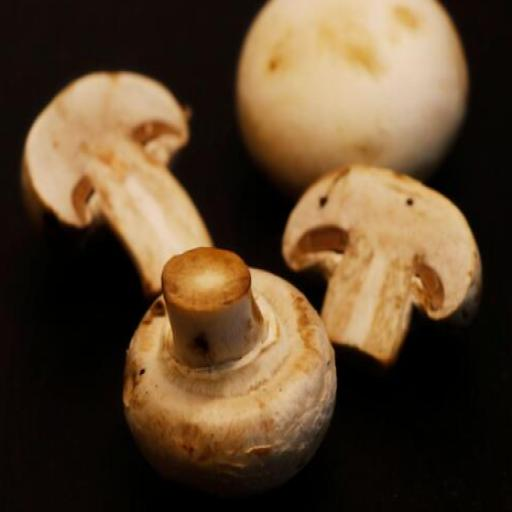Button Mushroom: (13, 49, 221, 296), (120, 243, 339, 477), (277, 163, 491, 360)
